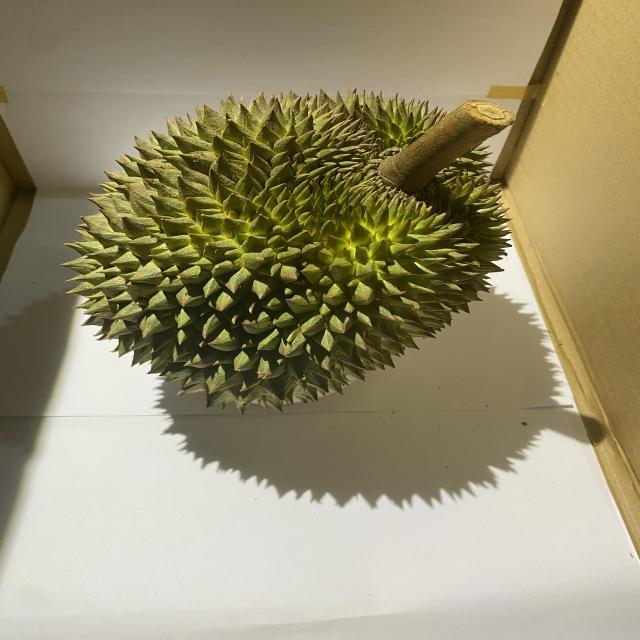immature: (59, 80, 516, 416)
